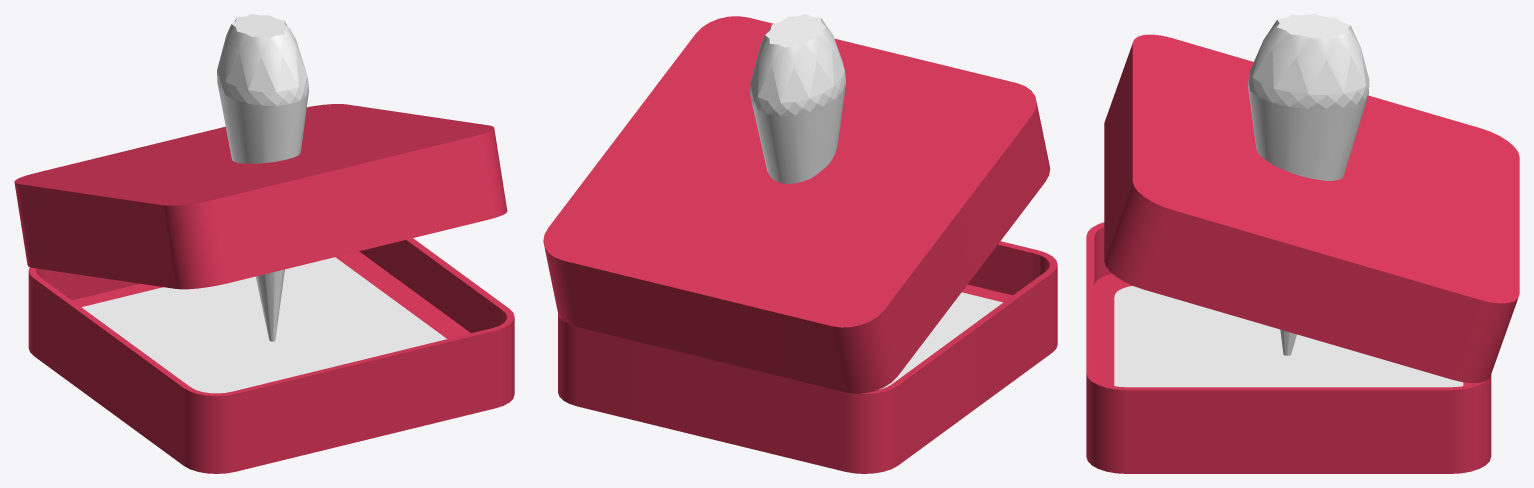
File: diamantA.gltf
The picture shows the model from 3 angles, left to right: view 1: azimuth 30°, elevation 25°; view 2: azimuth 150°, elevation 25°; view 3: azimuth 270°, elevation 25°; orthographic projection. The views are drawn at different scales.
Visible parts, largest first — view 1: objetHaut, objectBas, faceBasse, diamant; view 2: objetHaut, objectBas, diamant, faceBasse; view 3: objetHaut, objectBas, faceBasse, diamant.
Boxes of the visible parts, x1,y1,x2,y2 form: objetHaut: (14,104,507,289); objectBas: (28,238,514,473); faceBasse: (81,257,446,393); diamant: (217,14,308,341); objetHaut: (543,16,1050,393); objectBas: (558,241,1057,473); diamant: (750,14,845,183); faceBasse: (879,292,1002,389); objetHaut: (1104,34,1519,382); objectBas: (1086,222,1491,473); faceBasse: (1114,286,1463,387); diamant: (1247,14,1369,355).
Size of the model in its own units: 2.55 by 2.53 by 2.72.
